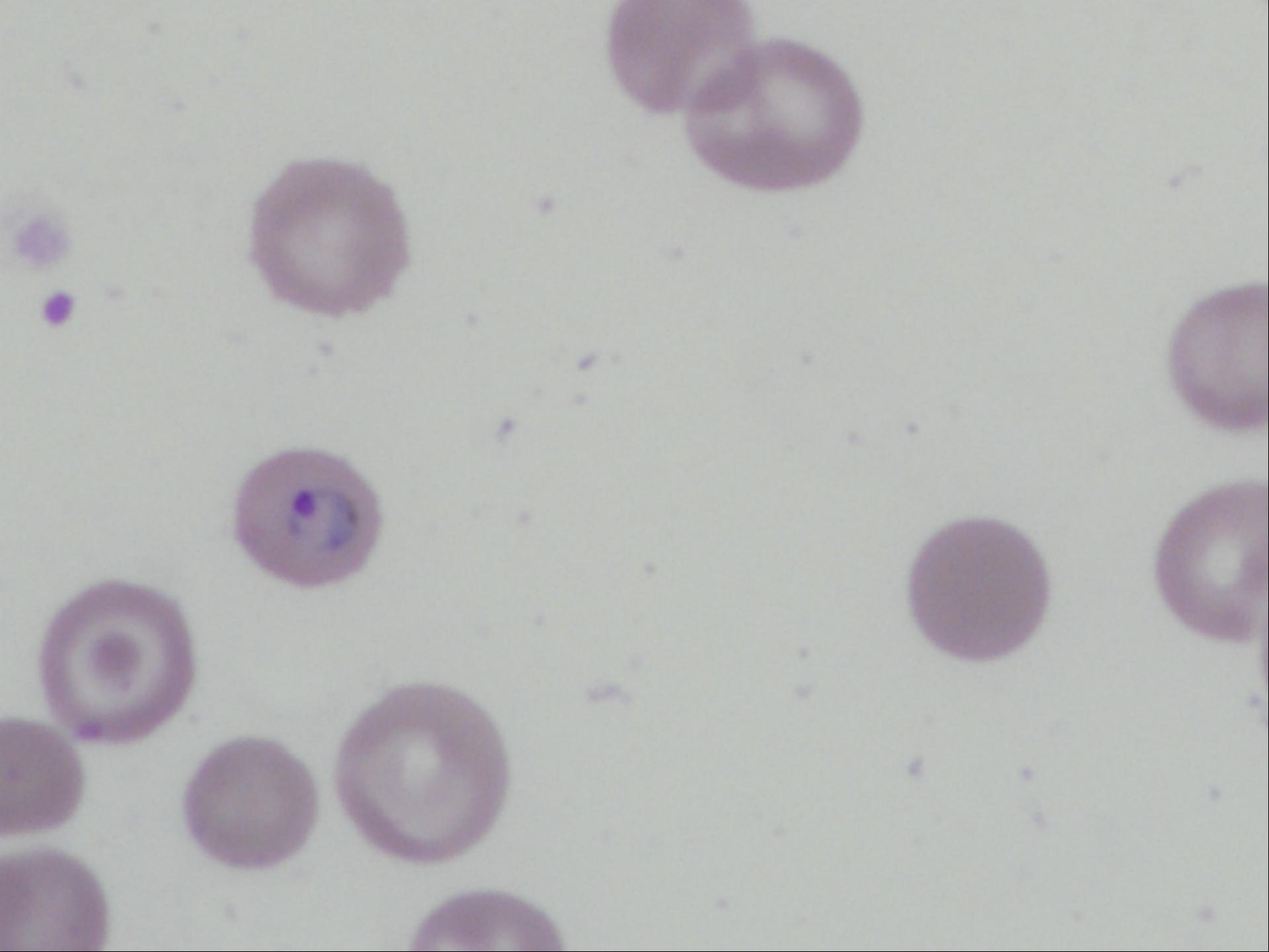Infected: (235, 449, 377, 587)
Uninfected: (338, 686, 508, 862), (41, 583, 194, 743), (692, 45, 864, 185), (250, 161, 405, 313), (907, 519, 1047, 659), (184, 739, 317, 869), (1157, 484, 1264, 641), (609, 2, 744, 112), (1171, 283, 1266, 423), (0, 852, 104, 949), (2, 719, 82, 838)
